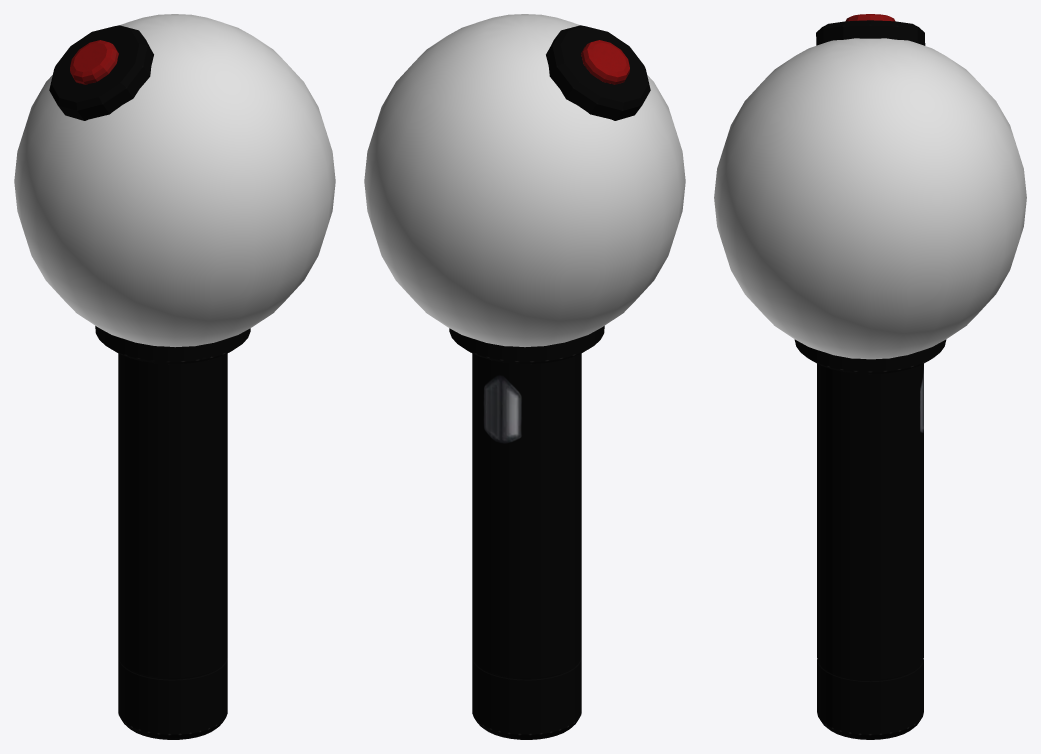
Rendered from Stick2.glb.
3 views of the same model, side by side, from view 1: azimuth 30°, elevation 25°; view 2: azimuth 150°, elevation 25°; view 3: azimuth 270°, elevation 25° (orthographic). The views are drawn at different scales.
Visible parts, largest first — view 1: BTS; view 2: BTS; view 3: BTS.
Part boxes in pixels (box(x1,y1,x2,y2)): BTS: box(14, 14, 335, 739); BTS: box(364, 14, 685, 739); BTS: box(714, 14, 1026, 739).
Bounding box in the file's own units: 0.1902 × 0.4568 × 0.1902.
6 materials, 3 textured.
